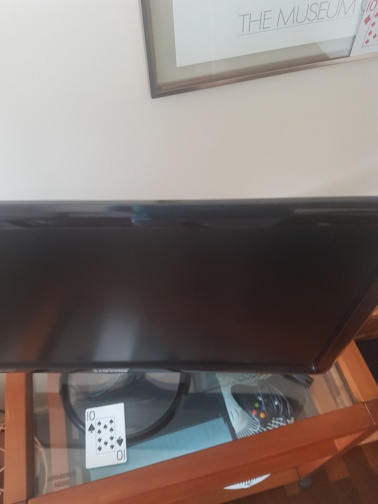ten: (84, 401, 128, 470)
